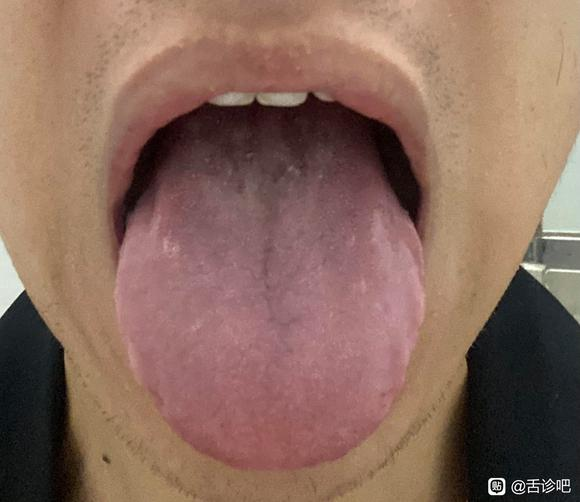botaishe: (197, 117, 317, 195)
heitaishe: (115, 117, 426, 470)
